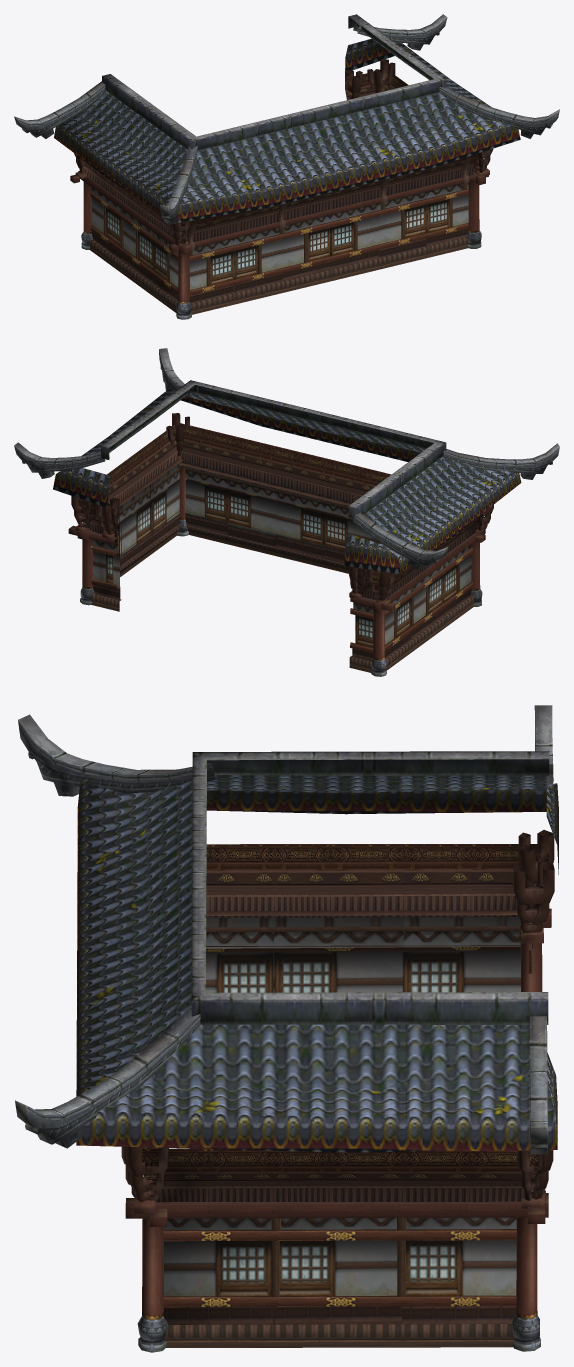
File: S2_Build_XSC058.FBX
3 views of the same model, one above another, from view 1: azimuth 30°, elevation 25°; view 2: azimuth 150°, elevation 25°; view 3: azimuth 270°, elevation 25° (orthographic). The views are drawn at different scales.
Visible parts, largest first — view 1: S2_Build_XSC058; view 2: S2_Build_XSC058; view 3: S2_Build_XSC058.
Part boxes in pixels (x1,y1,x2,y2): S2_Build_XSC058: (14,14,559,319); S2_Build_XSC058: (14,348,559,676); S2_Build_XSC058: (15,705,558,1352).
Bounding box in the file's own units: 1500 × 551 × 825.
